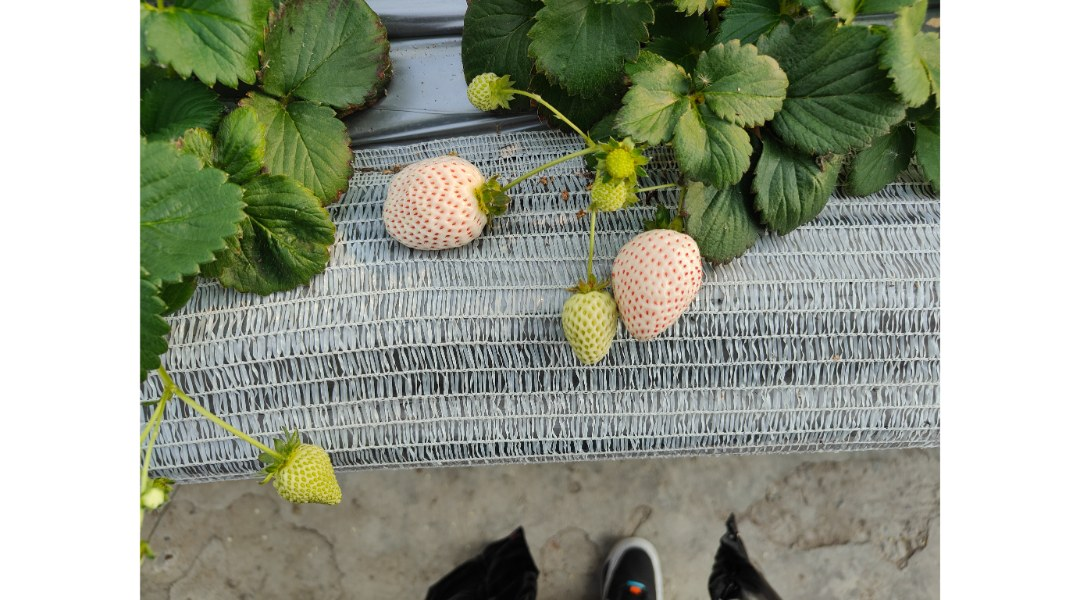berry: (377, 155, 508, 256), (615, 225, 706, 353), (261, 434, 348, 511), (556, 279, 622, 373), (461, 67, 514, 114), (601, 139, 647, 188), (590, 168, 632, 220)
strain: (182, 396, 275, 458), (526, 93, 591, 134), (516, 150, 577, 182), (573, 230, 605, 276)
